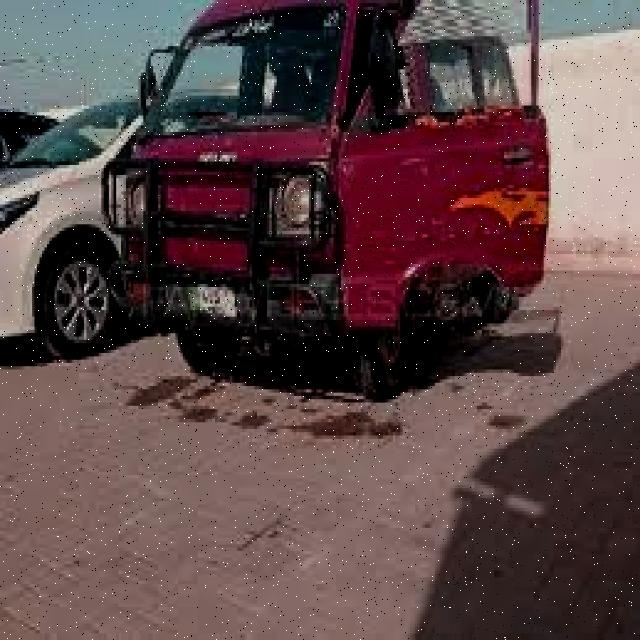Van: (104, 3, 556, 386)
